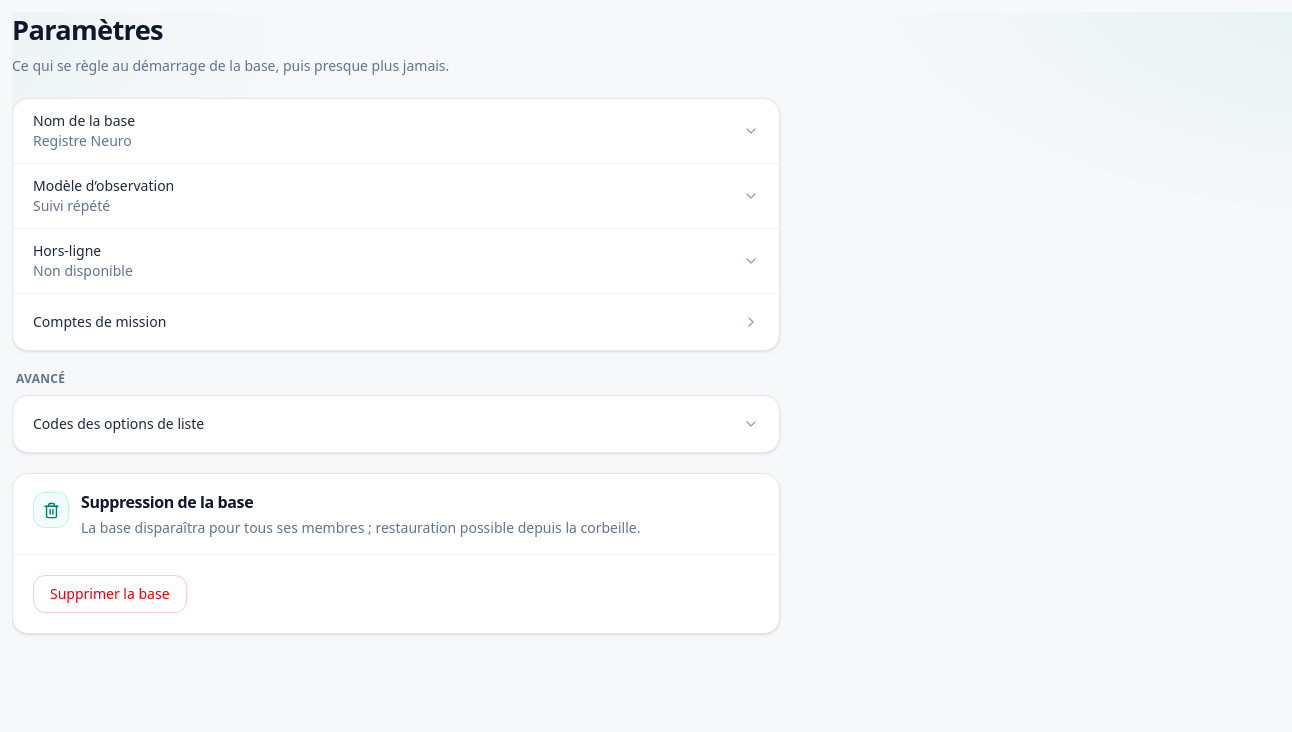
Test: BaseSettings — conversion des codes d options (L30) › analyser n appelle jamais la conversion et montre ce qui sera fait
Expected: the heading "Avancé" is shown, [16,370,65,387]
Step 1. Click the button "Codes des options de liste" → x=119, y=424, box [13,396,779,452]
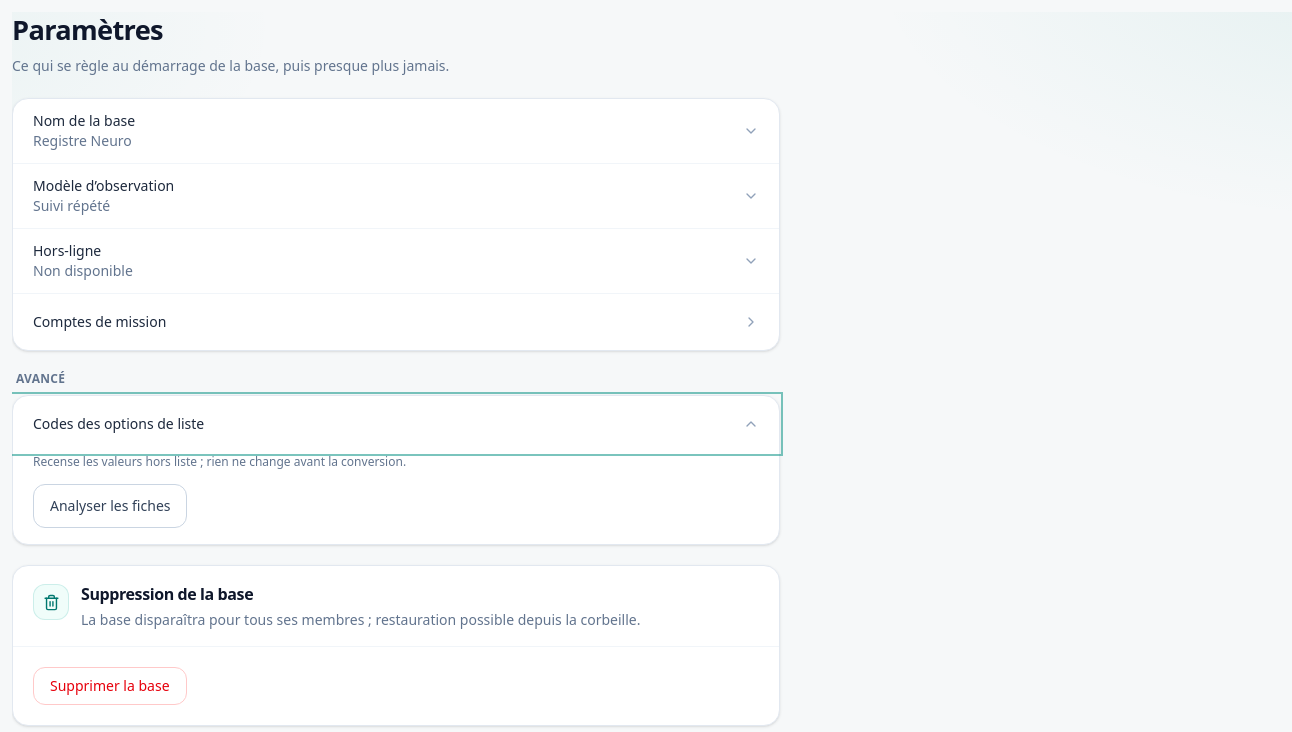
Step 2. Click the button "Analyser les fiches" → x=110, y=506, box [33,484,188,528]
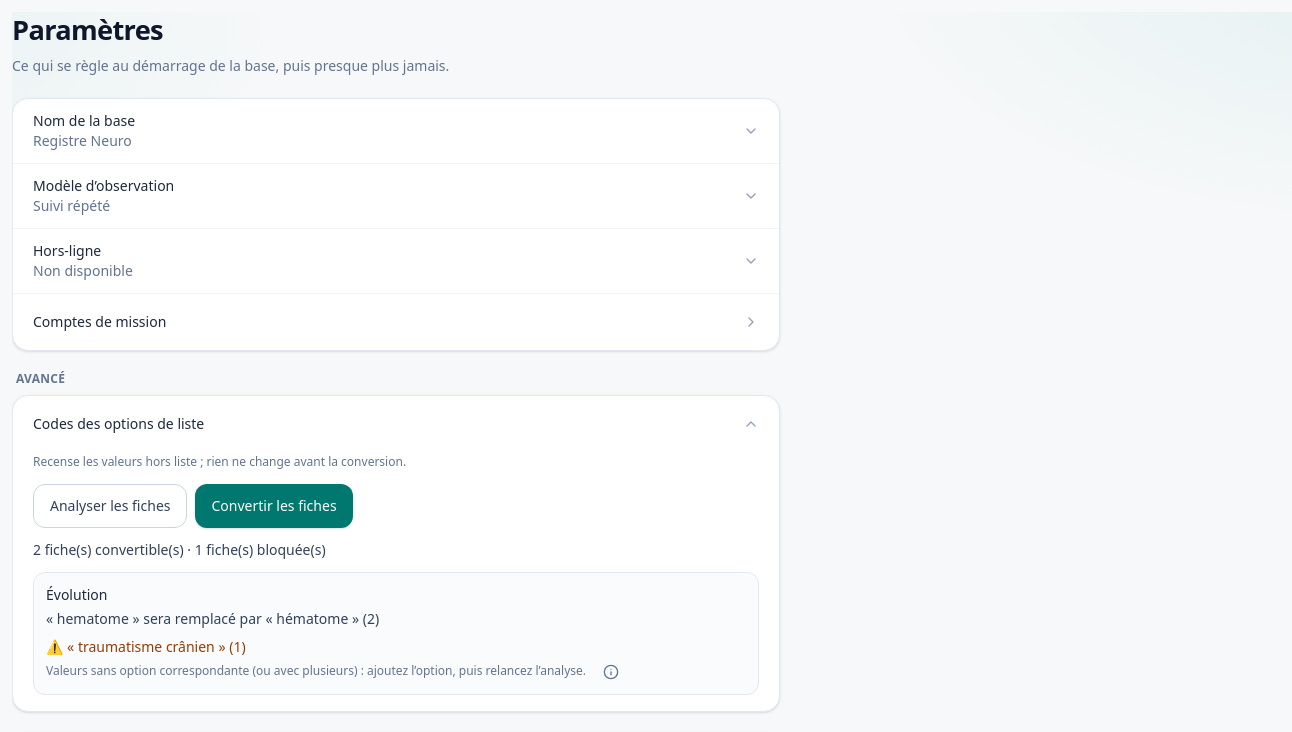
Result: the list item "« hematome » sera remplacé par « hématome » (2)" is shown at [46,609,379,628]
Result: the list item "⚠️ « traumatisme crânien » (1)" is shown at [46,637,246,656]
